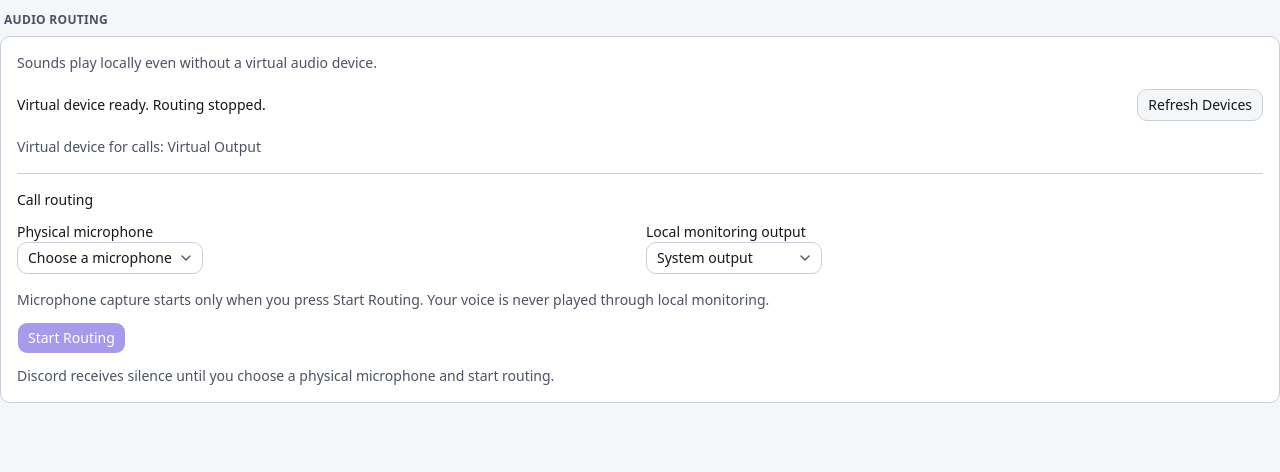
audio routing onboarding › starts and stops routing only with selected devices and reports backend state
Expected: the text "until you choose a physical microphone and start routing" is shown, left=17, top=366, right=554, bottom=385
Click the dropdown named "Physical microphone" at (110, 258), box left=17, top=242, right=203, bottom=274
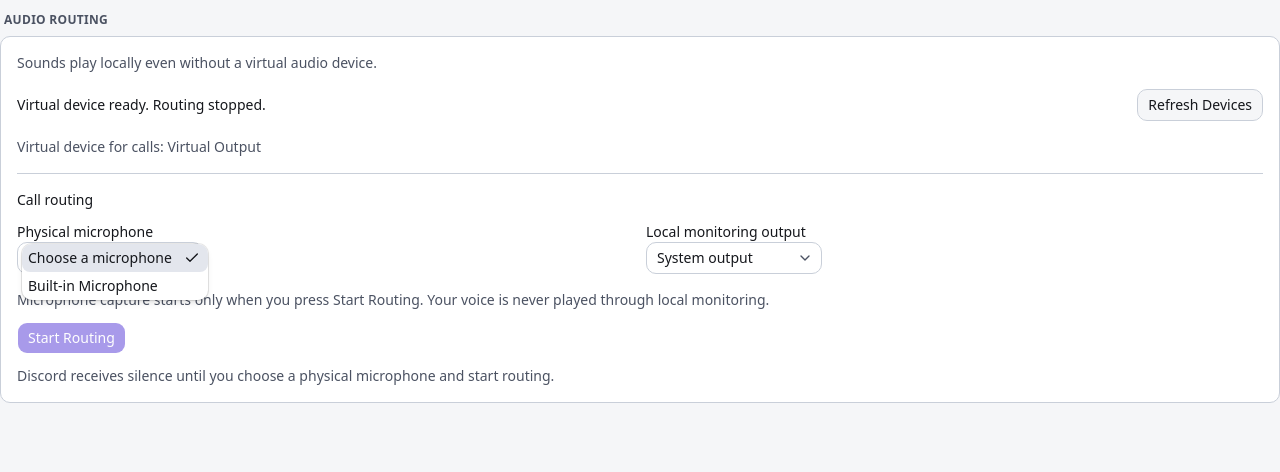
Click the option "Built-in Microphone" at (93, 286), box left=28, top=276, right=158, bottom=295
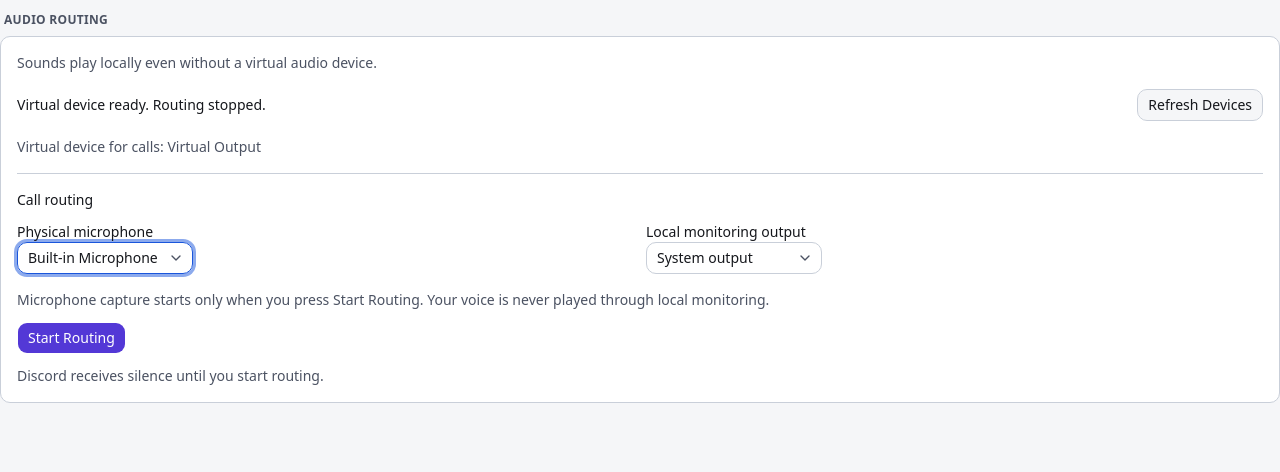
Now the text "Discord receives silence until you start routing." is shown, box left=17, top=366, right=324, bottom=385
Click the dropdown named "Local monitoring output" at (734, 258), box left=646, top=242, right=822, bottom=274
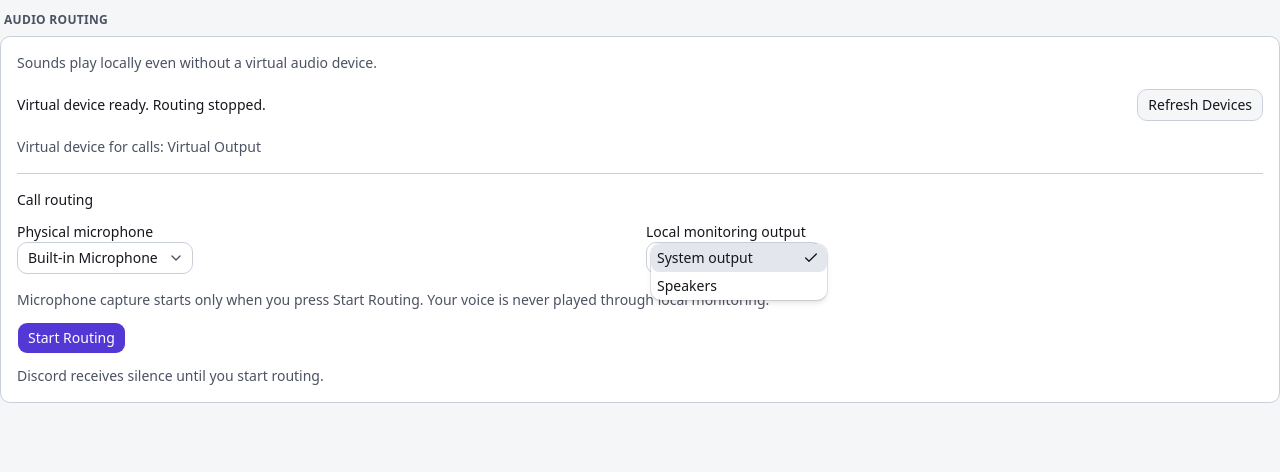
Click the option "Speakers" at (687, 286), box left=657, top=276, right=717, bottom=295
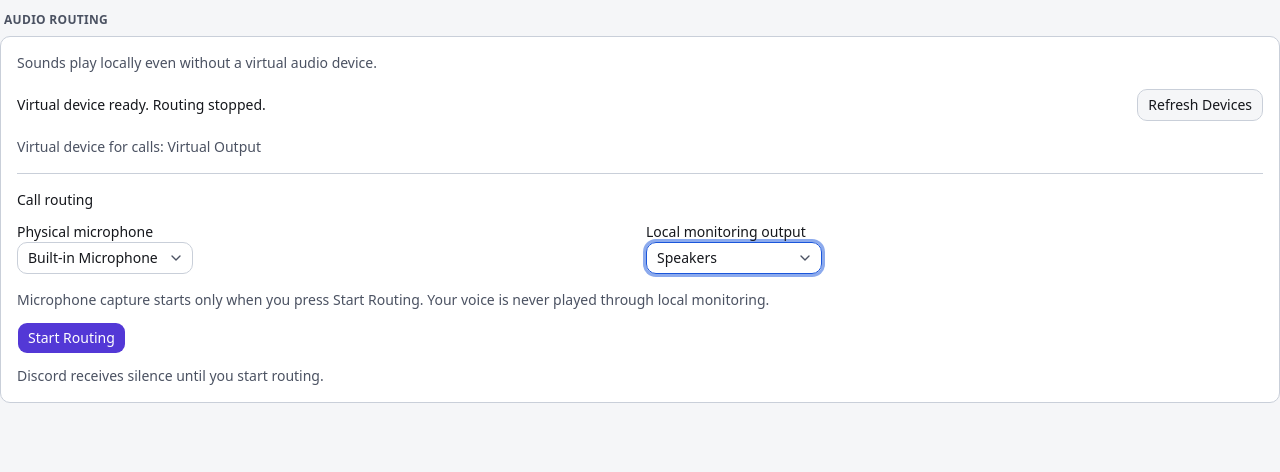
Now the button "Start Routing" is enabled
Click the button "Start Routing" at (71, 338), box left=17, top=322, right=126, bottom=354
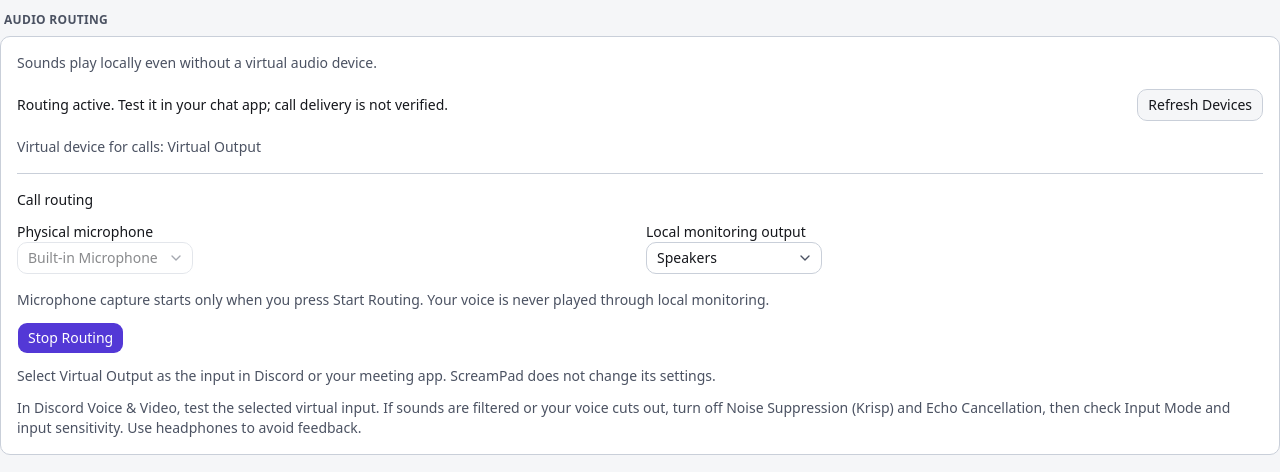
Now the message shows "Routing active", box left=17, top=95, right=448, bottom=114
Now the text "turn off Noise Suppression (Krisp)" is shown, box left=17, top=398, right=1230, bottom=437
Click the button "Stop Routing" at (71, 338), box left=17, top=322, right=124, bottom=354
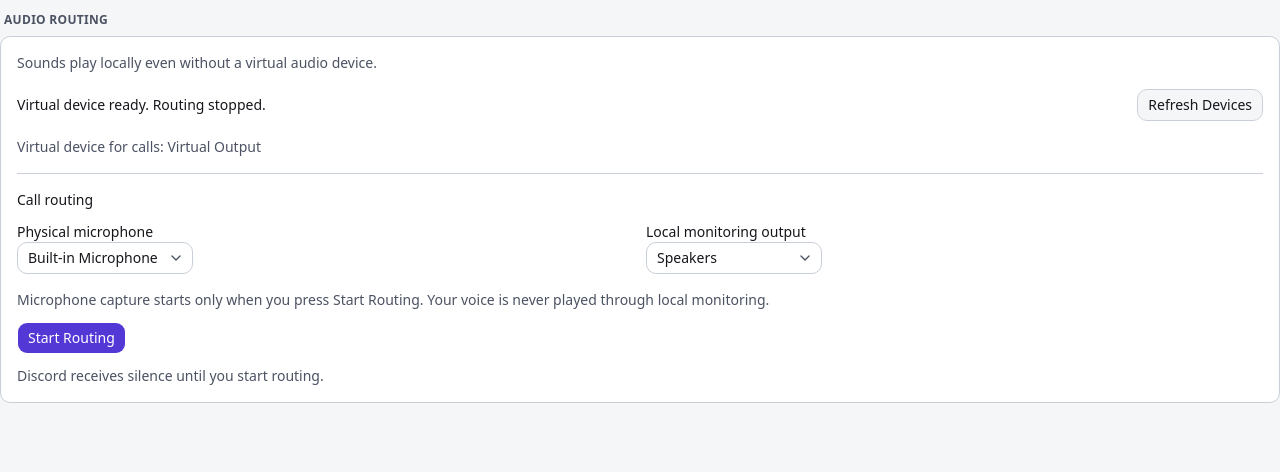
Now the message shows "Virtual device ready", box left=17, top=95, right=266, bottom=114
Now the text "Discord receives silence until you start routing." is shown, box left=17, top=366, right=324, bottom=385
